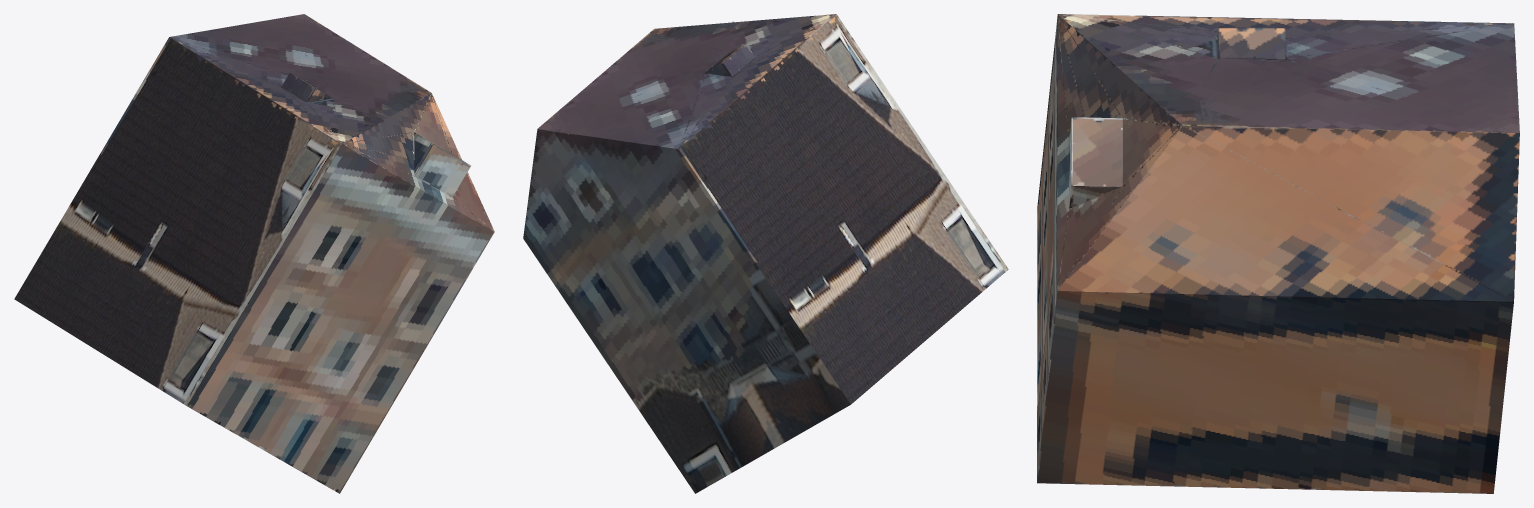
The picture shows the model from 3 angles, left to right: view 1: azimuth 30°, elevation 25°; view 2: azimuth 150°, elevation 25°; view 3: azimuth 270°, elevation 25°; orthographic projection. The views are drawn at different scales.
Visible parts, largest first — view 1: BAG_0599100000675886 (×7); view 2: BAG_0599100000675886 (×7); view 3: BAG_0599100000675886 (×7).
Boxes of the visible parts, bbox=[...] form: BAG_0599100000675886 (×7): bbox=[14, 14, 494, 493]; BAG_0599100000675886 (×7): bbox=[523, 14, 1008, 493]; BAG_0599100000675886 (×7): bbox=[1037, 14, 1519, 493].
Bounding box in the file's own units: 13.32 × 14.15 × 12.38.
Materials: 1 (1 with a texture image).
